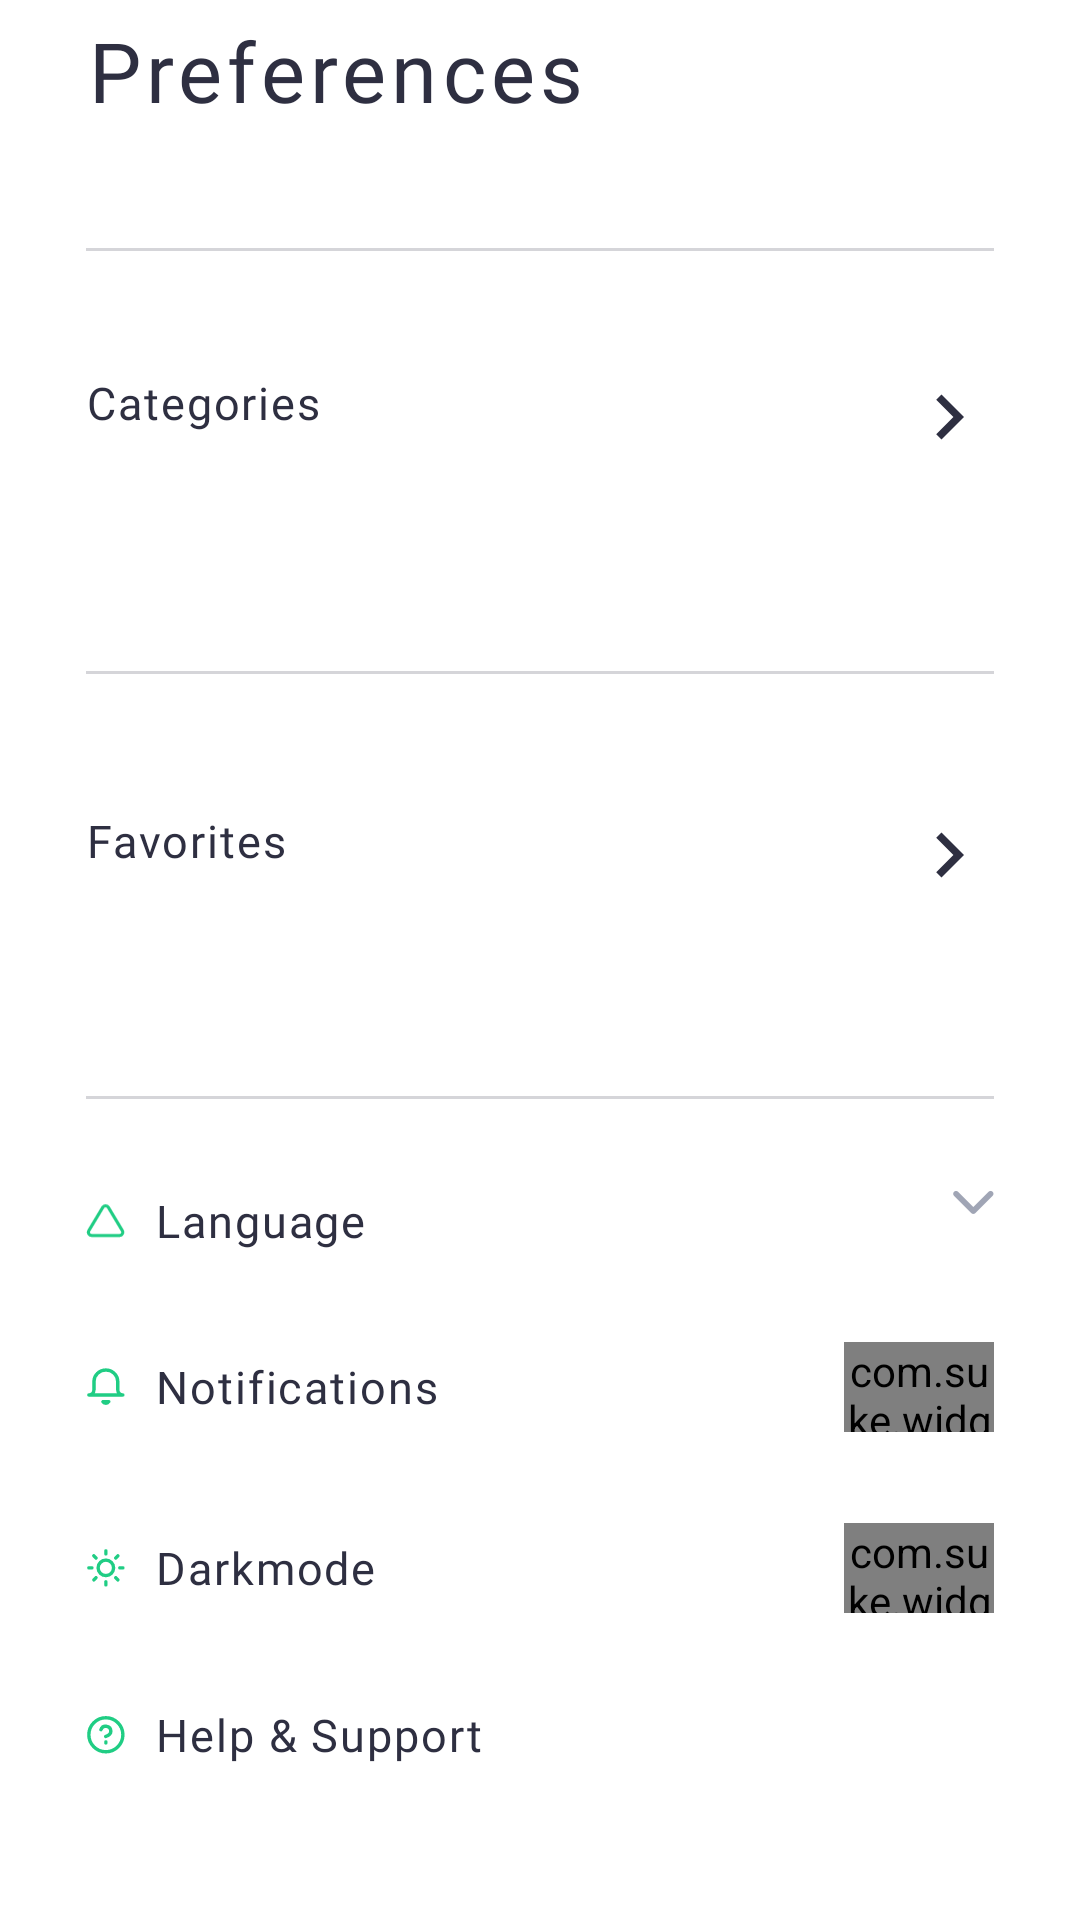

Where to tap for icons on this 1080x1920 app screen, as (x,y):
bell: (106,1386)
chevron right: (950,417), (950,855)
help circle: (106,1735)
sun: (106,1568)
triangle: (105,1221)
